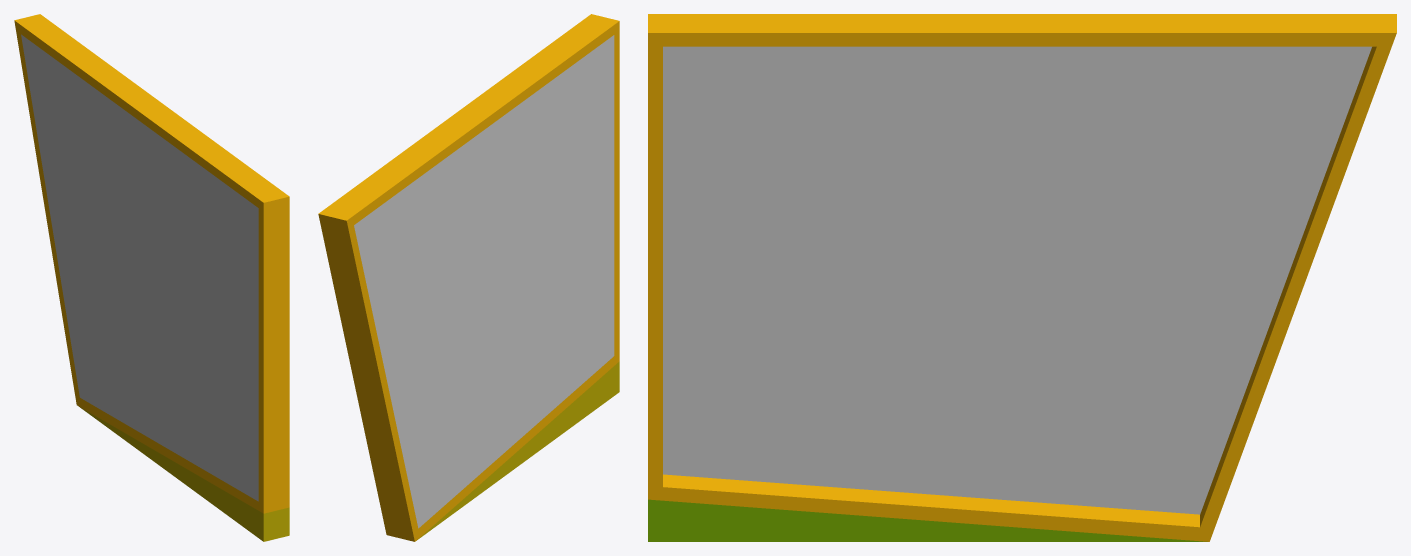
File: window_side_1.dae
3 renders of one model, left to right at view 1: azimuth 30°, elevation 25°; view 2: azimuth 150°, elevation 25°; view 3: azimuth 270°, elevation 25°, orthographic. The views are drawn at different scales.
Visible parts, largest first — view 1: Cube; view 2: Cube; view 3: Cube.
Part boxes in pixels (left/top/right/bottom): Cube: left=14, top=14, right=289, bottom=541; Cube: left=318, top=14, right=619, bottom=541; Cube: left=648, top=14, right=1396, bottom=541.
Size of the model in its own units: 0.06 by 1 by 0.75.
